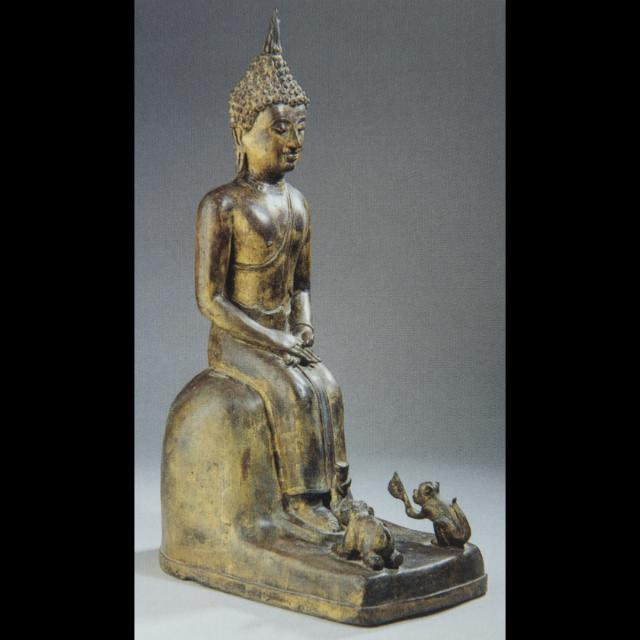buddha-sitting: (180, 22, 369, 549)
